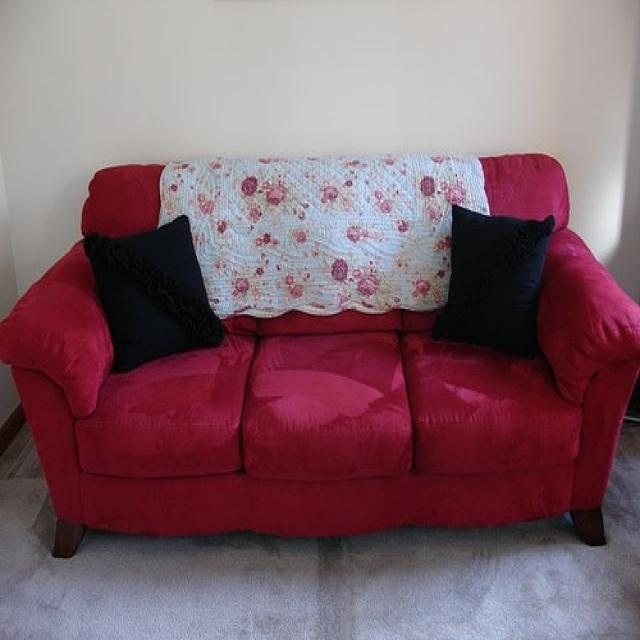sofa: (6, 150, 636, 556)
